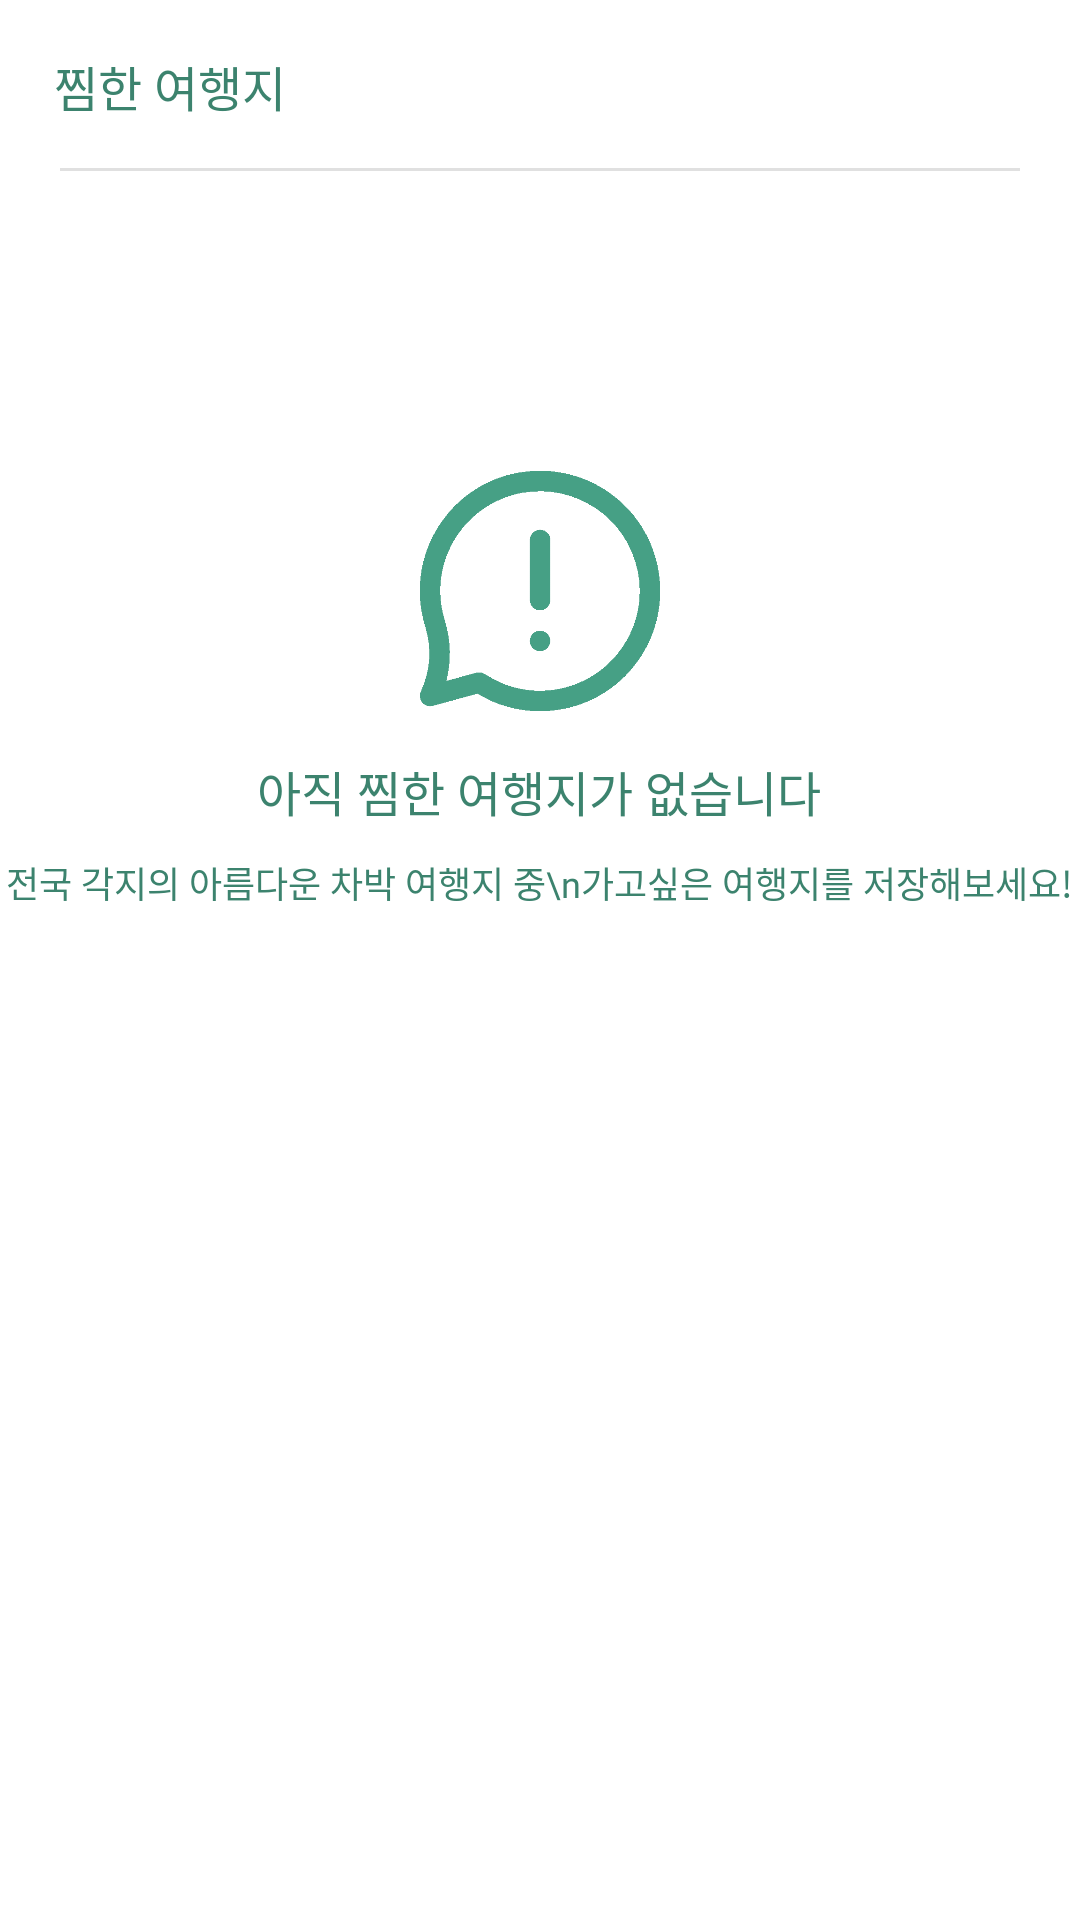

Where icons sit on this 1080w x 1920h app screen, as box=[x1, y1, x2, y2]:
error: box=[420, 471, 660, 711]
